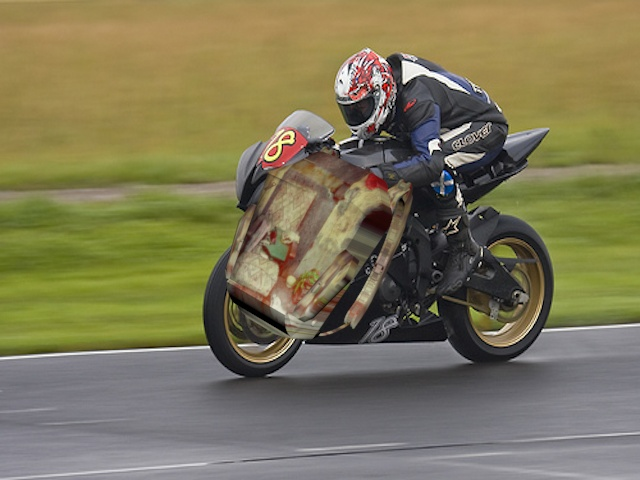back_pack: (224, 144, 417, 352)
